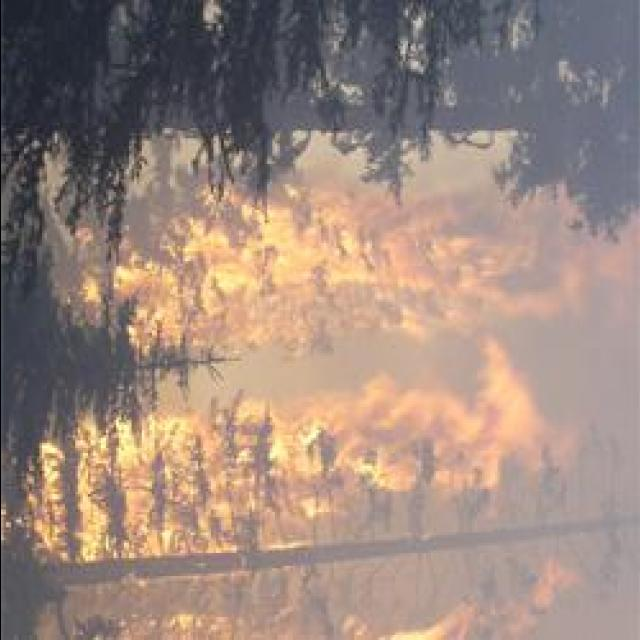fire: (34, 431, 74, 558)
